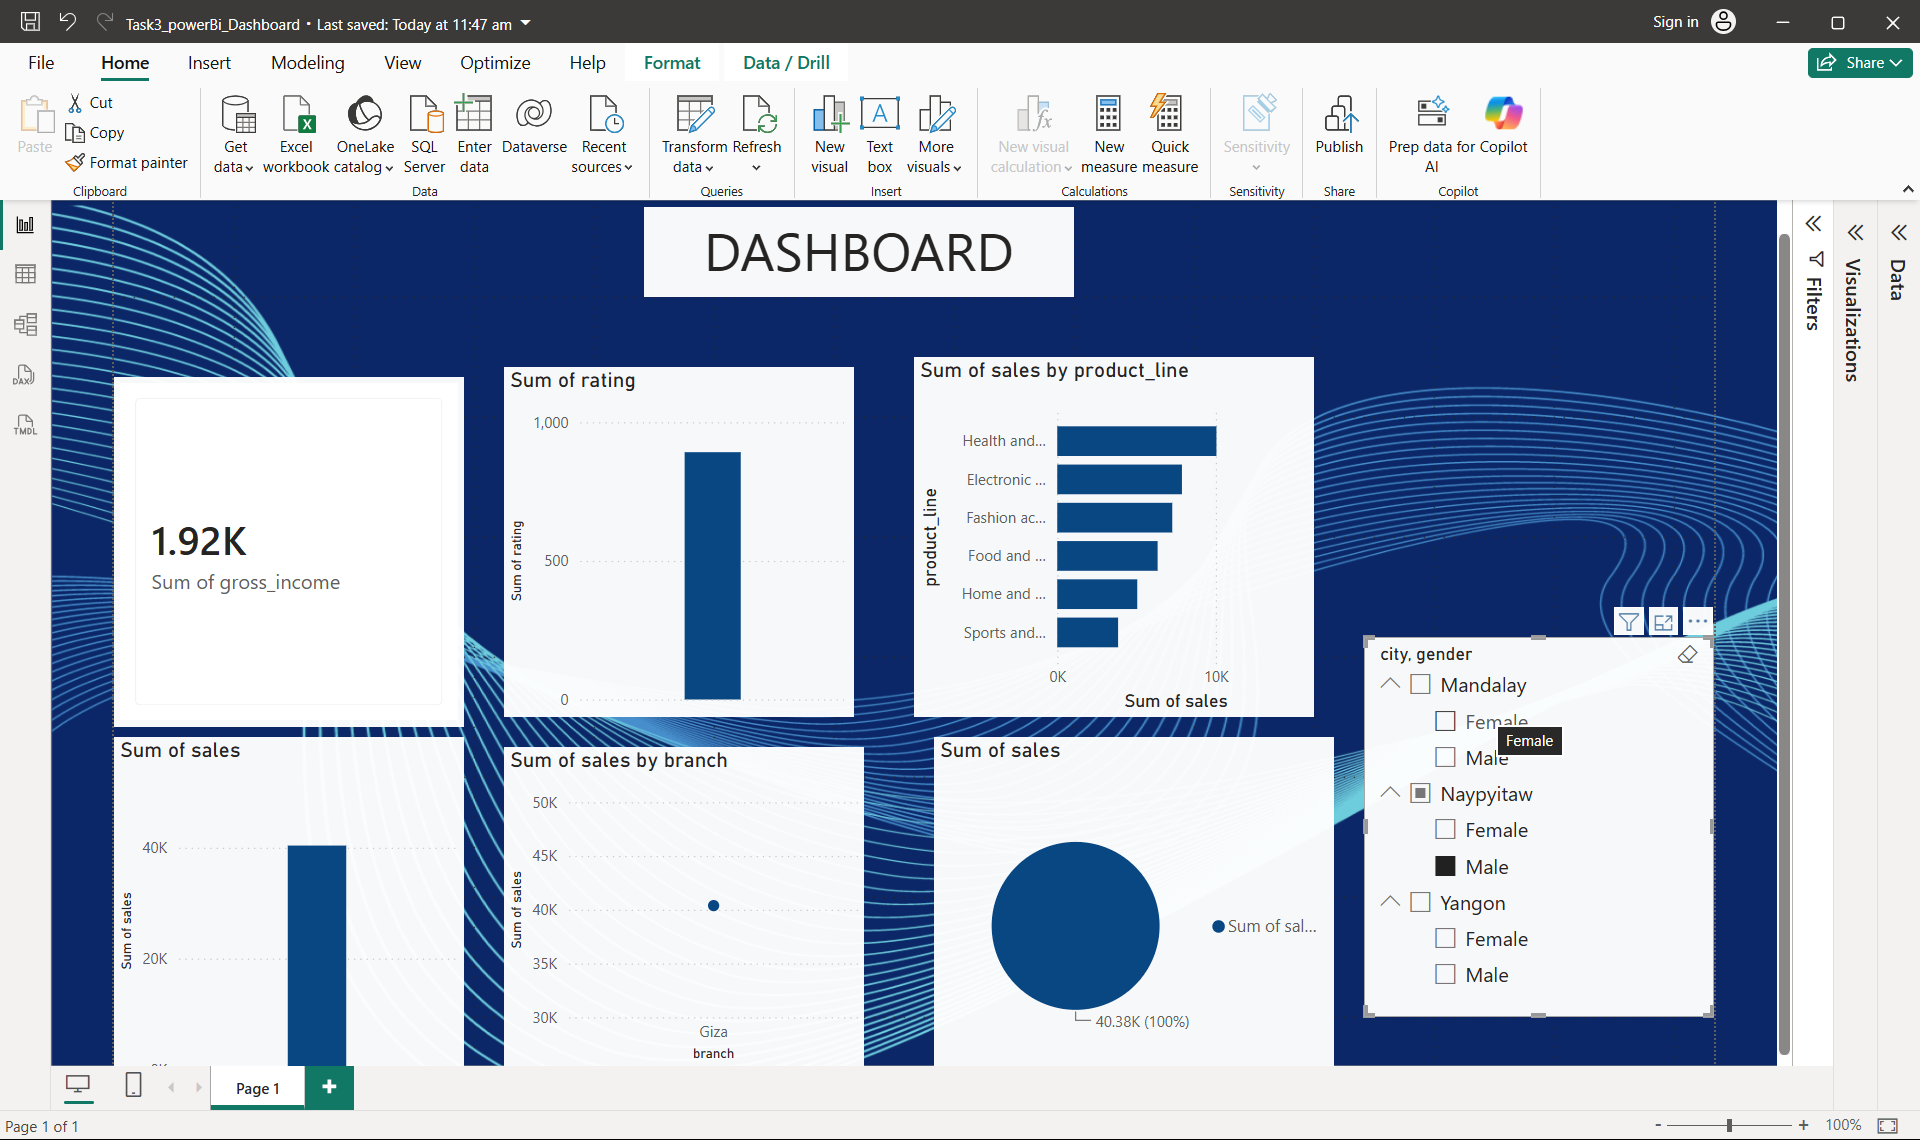

What the dashboard file says about the page in this screenshot:
{"tool":"powerbi","page":{"name":"Page 1","canvas":[1280,720],"ordinal":0},"visuals":[{"type":"textbox","box":[424,24,344,72],"z":500},{"type":"cardVisual","fields":{"Data":["Sum(cleaned_supermarket.gross_income)"]},"box":[0,160,280,280],"z":1000},{"type":"clusteredColumnChart","fields":{"Y":["Sum(cleaned_supermarket.sales)"]},"box":[0,448,280,280],"z":2000},{"type":"clusteredColumnChart","fields":{"Y":["Sum(cleaned_supermarket.rating)"]},"box":[312,152,280,280],"z":3000},{"type":"clusteredBarChart","fields":{"Category":["cleaned_supermarket.product_line"],"Y":["Sum(cleaned_supermarket.sales)"]},"box":[640,144,320,288],"z":4000},{"type":"pieChart","fields":{"Y":["Sum(cleaned_supermarket.sales)"]},"box":[656,448,320,272],"z":5000},{"type":"lineChart","fields":{"Category":["cleaned_supermarket.branch"],"Y":["Sum(cleaned_supermarket.sales)"]},"box":[312,456,288,256],"z":6000},{"type":"slicer","fields":{"Values":["cleaned_supermarket.city","cleaned_supermarket.gender"]},"box":[1000,368,280,304],"z":7000}]}

Visuals, with their boxes on the page's 1280x720 design canvas (x1, y1, x2, y2). These are canvas units, not pixel positions in the 1920x1140 screenshot, which may show the page scaled, cropped or inside an application window:
textbox: [424,24,768,96]
cardVisual - Sum(cleaned_supermarket.gross_income): [0,160,280,440]
clusteredColumnChart - Sum(cleaned_supermarket.sales): [0,448,280,728]
clusteredColumnChart - Sum(cleaned_supermarket.rating): [312,152,592,432]
clusteredBarChart - cleaned_supermarket.product_line x Sum(cleaned_supermarket.sales): [640,144,960,432]
pieChart - Sum(cleaned_supermarket.sales): [656,448,976,720]
lineChart - cleaned_supermarket.branch x Sum(cleaned_supermarket.sales): [312,456,600,712]
slicer - cleaned_supermarket.city x cleaned_supermarket.gender: [1000,368,1280,672]
